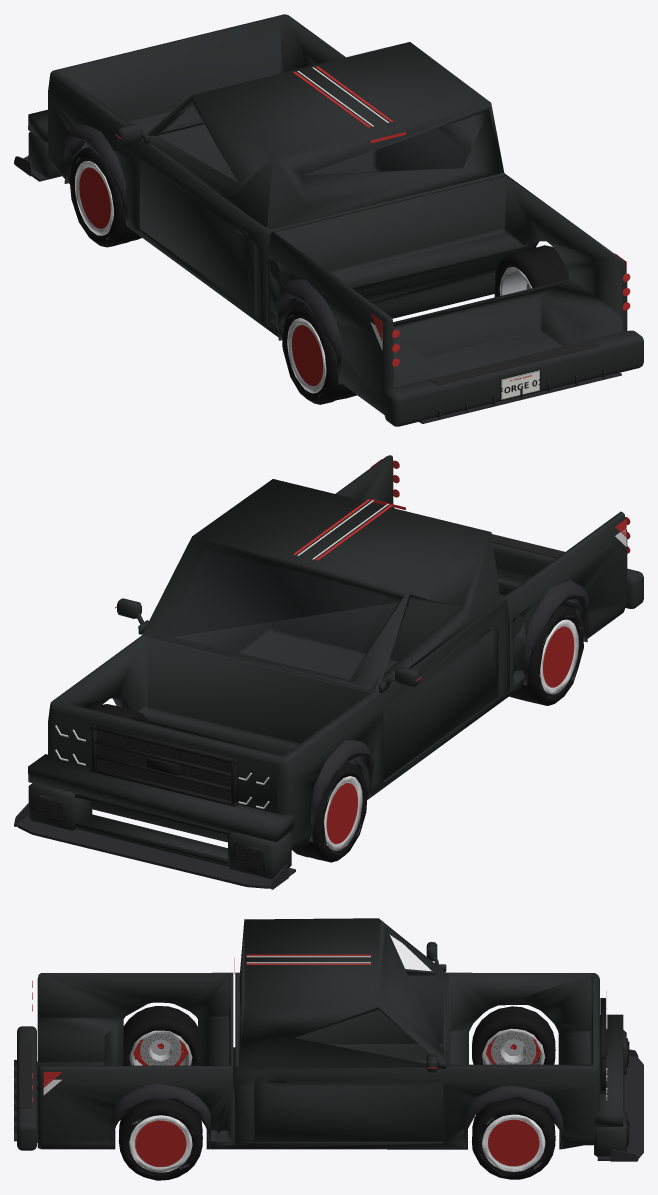
The model's file is acf_blackout_pickup_D.fbx.
3 views of the same model, one above another, from view 1: azimuth 30°, elevation 25°; view 2: azimuth 150°, elevation 25°; view 3: azimuth 270°, elevation 25° (orthographic). The views are drawn at different scales.
Parts seen in each view (by area): view 1: BODY_SHELL, BODY_CAB_TOP, REAR_BUMPER, BODY_FLARES, WHEEL_LR_TYRE, WHEEL_RR_TYRE, WHEEL_LF_TYRE, RIM_BLUR_LR, RIM_BLUR_LF, REAR_STEP_PAD, FRONT_BUMPER, REAR_DIFFUSER (+5 smaller); view 2: BODY_SHELL, BODY_CAB_TOP, FRONT_BUMPER, FRONT_SPLITTER, BODY_FLARES, FRONT_GRILLE_MESH, FRONT_GRILLE_FRAME, FRONT_BUMPER_TRIM, WHEEL_LR_TYRE, WHEEL_LF_TYRE, REAR_BUMPER, RIM_BLUR_LF (+7 smaller); view 3: BODY_SHELL, BODY_CAB_TOP, BODY_FLARES, FRONT_BUMPER, WHEEL_RR_TYRE, WHEEL_RF_TYRE, WHEEL_LF_TYRE, WHEEL_LR_TYRE, FRONT_SPLITTER, RIM_BLUR_RR, RIM_BLUR_RF, REAR_BUMPER (+13 smaller).
Boxes of the visible parts, bbox=[...] form: BODY_SHELL: bbox=[48, 14, 627, 414]; BODY_CAB_TOP: bbox=[146, 42, 504, 228]; REAR_BUMPER: bbox=[384, 330, 643, 426]; BODY_FLARES: bbox=[63, 124, 545, 384]; WHEEL_LR_TYRE: bbox=[282, 304, 356, 404]; WHEEL_RR_TYRE: bbox=[494, 245, 568, 297]; WHEEL_LF_TYRE: bbox=[69, 147, 141, 247]; RIM_BLUR_LR: bbox=[291, 323, 324, 386]; RIM_BLUR_LF: bbox=[79, 166, 113, 232]; REAR_STEP_PAD: bbox=[430, 339, 599, 385]; FRONT_BUMPER: bbox=[28, 109, 61, 179]; REAR_DIFFUSER: bbox=[419, 369, 621, 423]; BODY_SHELL: bbox=[48, 455, 627, 849]; BODY_CAB_TOP: bbox=[142, 479, 500, 692]; FRONT_BUMPER: bbox=[28, 754, 293, 879]; FRONT_SPLITTER: bbox=[14, 795, 295, 889]; BODY_FLARES: bbox=[112, 580, 589, 842]; FRONT_GRILLE_MESH: bbox=[97, 730, 230, 800]; FRONT_GRILLE_FRAME: bbox=[90, 724, 238, 806]; FRONT_BUMPER_TRIM: bbox=[34, 793, 264, 870]; WHEEL_LR_TYRE: bbox=[509, 605, 583, 705]; WHEEL_LF_TYRE: bbox=[292, 762, 367, 862]; REAR_BUMPER: bbox=[493, 542, 643, 608]; RIM_BLUR_LF: bbox=[326, 781, 358, 845]; BODY_SHELL: bbox=[37, 972, 599, 1149]; BODY_CAB_TOP: bbox=[238, 918, 446, 1068]; BODY_FLARES: bbox=[110, 1002, 563, 1149]; FRONT_BUMPER: bbox=[594, 1014, 626, 1156]; WHEEL_RR_TYRE: bbox=[118, 1100, 202, 1180]; WHEEL_RF_TYRE: bbox=[471, 1099, 555, 1179]; WHEEL_LF_TYRE: bbox=[472, 1006, 555, 1064]; WHEEL_LR_TYRE: bbox=[123, 1006, 197, 1065]; FRONT_SPLITTER: bbox=[597, 1040, 643, 1161]; RIM_BLUR_RR: bbox=[134, 1116, 187, 1167]; RIM_BLUR_RF: bbox=[486, 1119, 540, 1166]; REAR_BUMPER: bbox=[17, 1026, 36, 1150].
Bounding box in the file's own units: 242 × 160 × 532.
19 materials, 19 textured.
